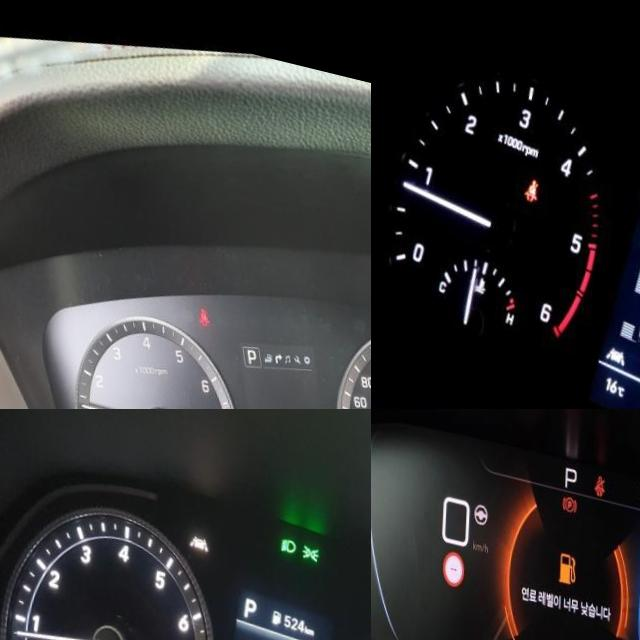Low beam: (280, 518, 297, 538)
Low fuel level: (561, 535, 579, 570)
SideLamp: (301, 524, 320, 544)
